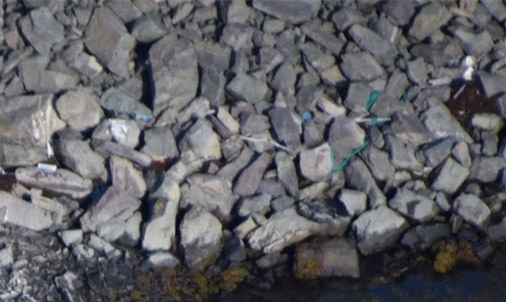scattered_barrel: (295, 46, 485, 186)
